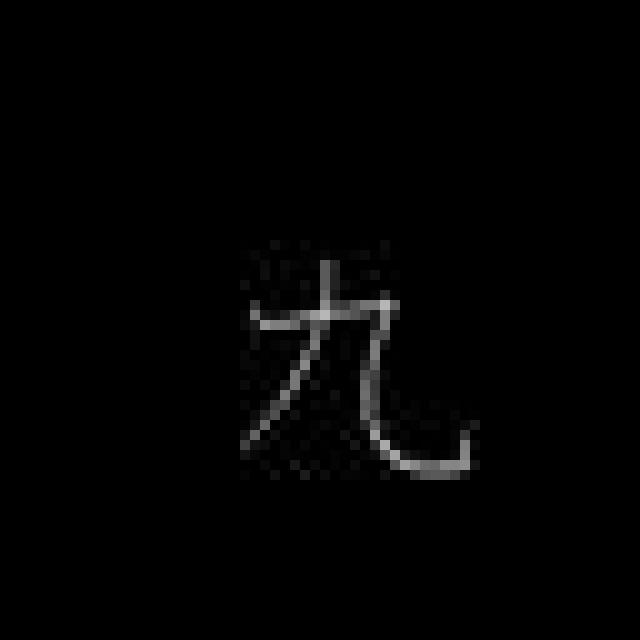9 -nine-: (225, 253, 478, 487)
